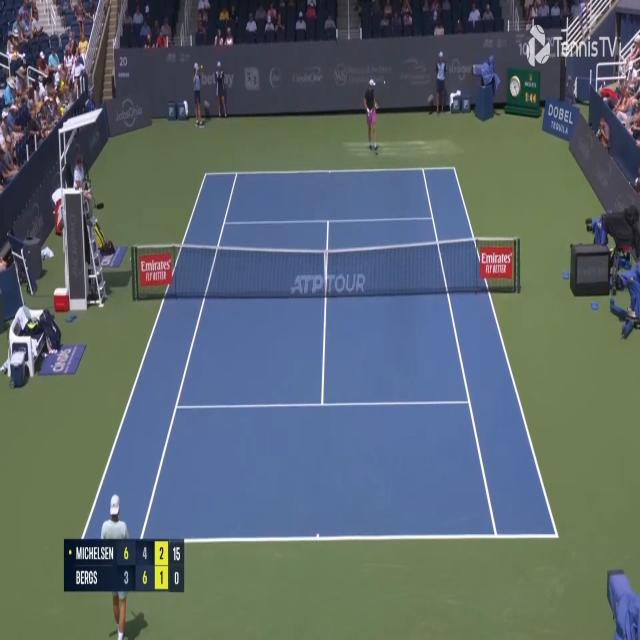tennis-player: (106, 493, 136, 638), (364, 78, 380, 156)
